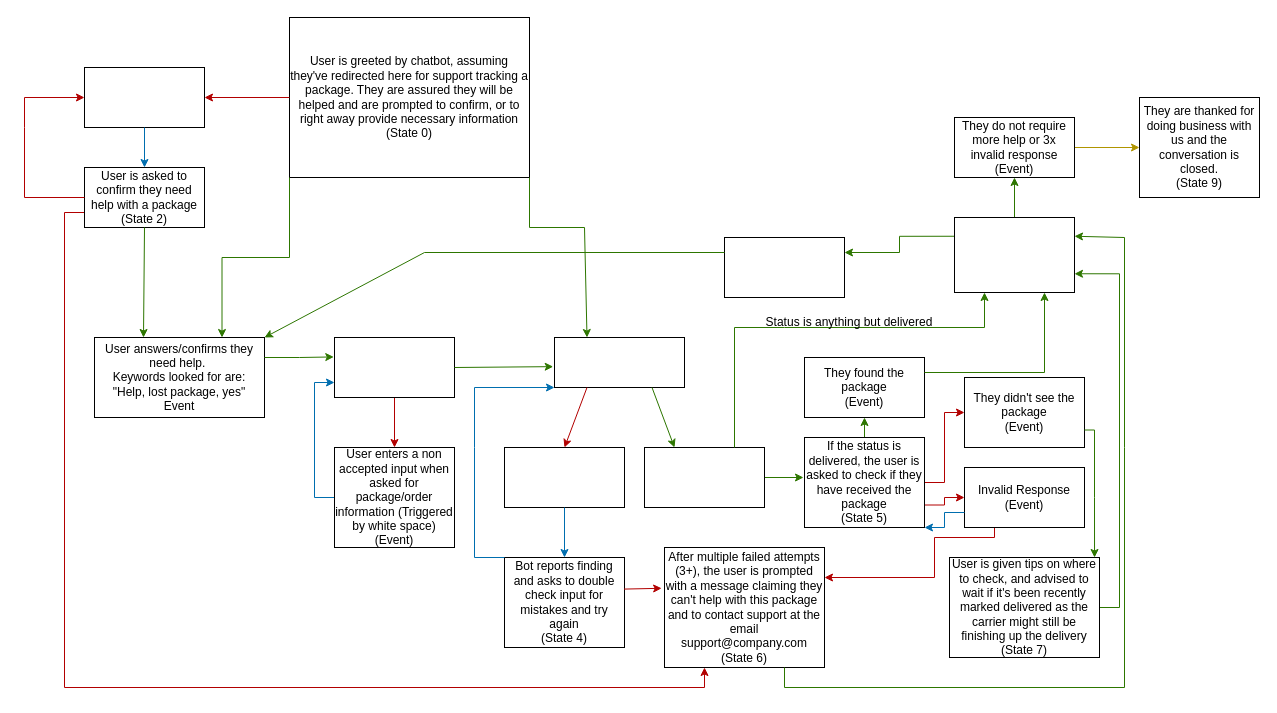
This 1277x713 diagram has some shape labels left out. Each missing label, with the centre of its shape:
"Bot does not find the package (Event)" belongs at point 564,477.
"Bot finds the package in the DB and reports the status (State 3)" belongs at point 704,477.
"The user is asked if they need help with another package (State 8)" belongs at point 1014,254.
"They request more help (Event)" belongs at point 784,267.
"User inputs a non accepted input (Event)" belongs at point 144,97.
"User is prompted for tracking number or order number (State 1)" belongs at point 394,367.
"User provides order or tracking number (Event)" belongs at point 619,362.
